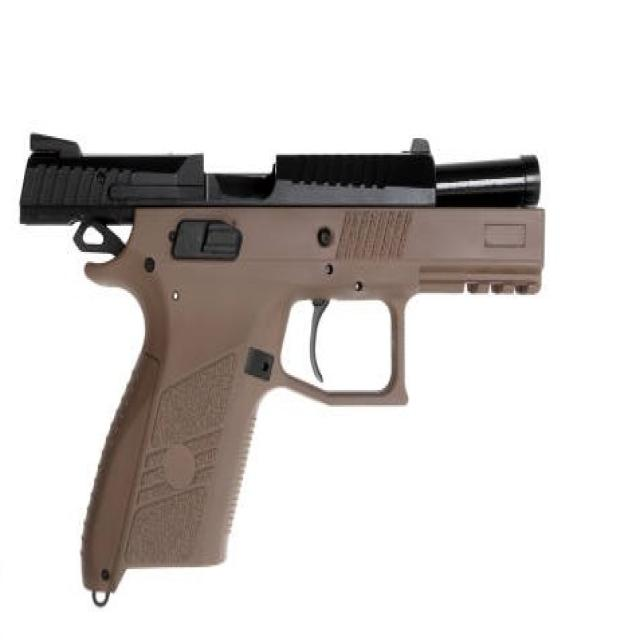pistol: (16, 127, 556, 605)
